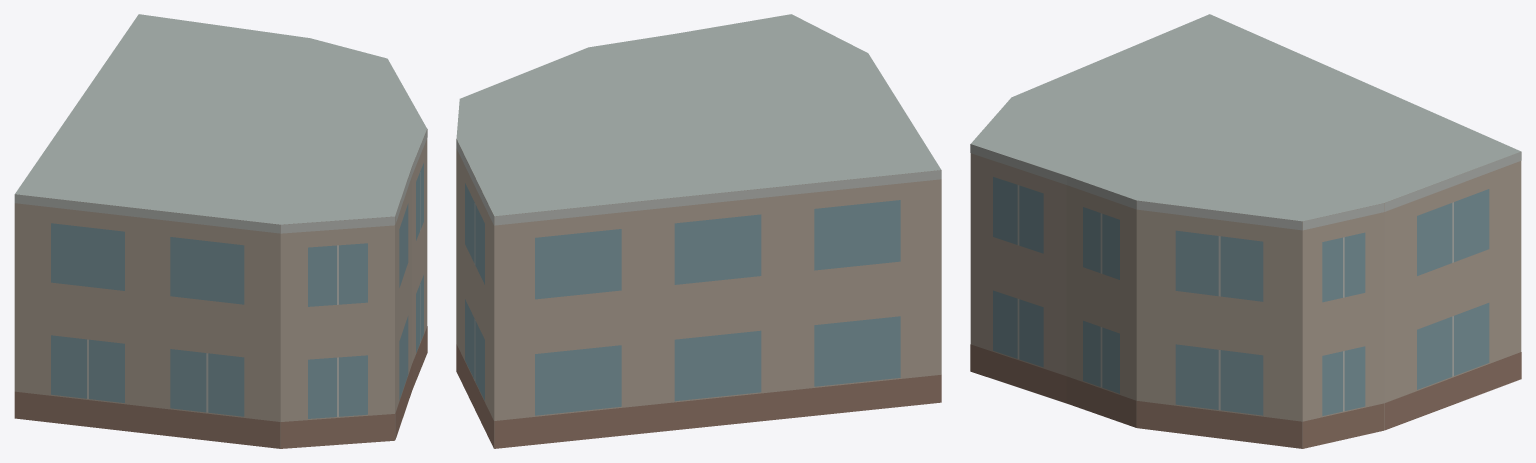
The model's file is survey-upis-32640765.glb.
3 views of the same model, side by side, from view 1: azimuth 30°, elevation 25°; view 2: azimuth 150°, elevation 25°; view 3: azimuth 270°, elevation 25° (orthographic). The views are drawn at different scales.
Parts seen in each view (by area): view 1: survey-upis-32640765.tmp; view 2: survey-upis-32640765.tmp; view 3: survey-upis-32640765.tmp.
Boxes of the visible parts, box(x1,y1,x2,y2) form: survey-upis-32640765.tmp: box(14, 14, 427, 448); survey-upis-32640765.tmp: box(456, 14, 941, 448); survey-upis-32640765.tmp: box(970, 14, 1521, 448).
Bounding box in the file's own units: 11.93 × 6.1 × 13.4.
